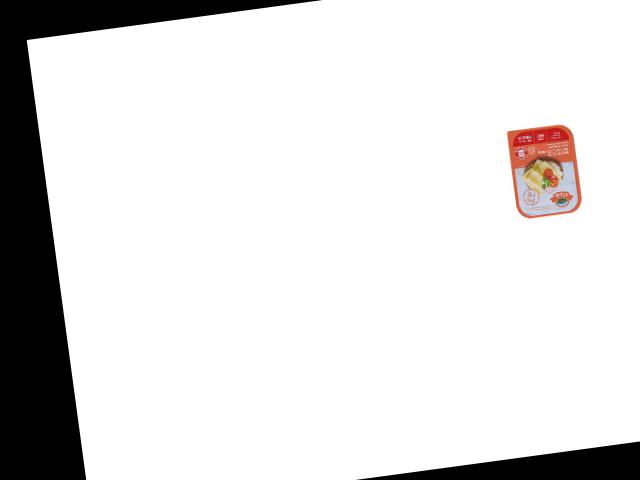cheese: (504, 116, 588, 222)
